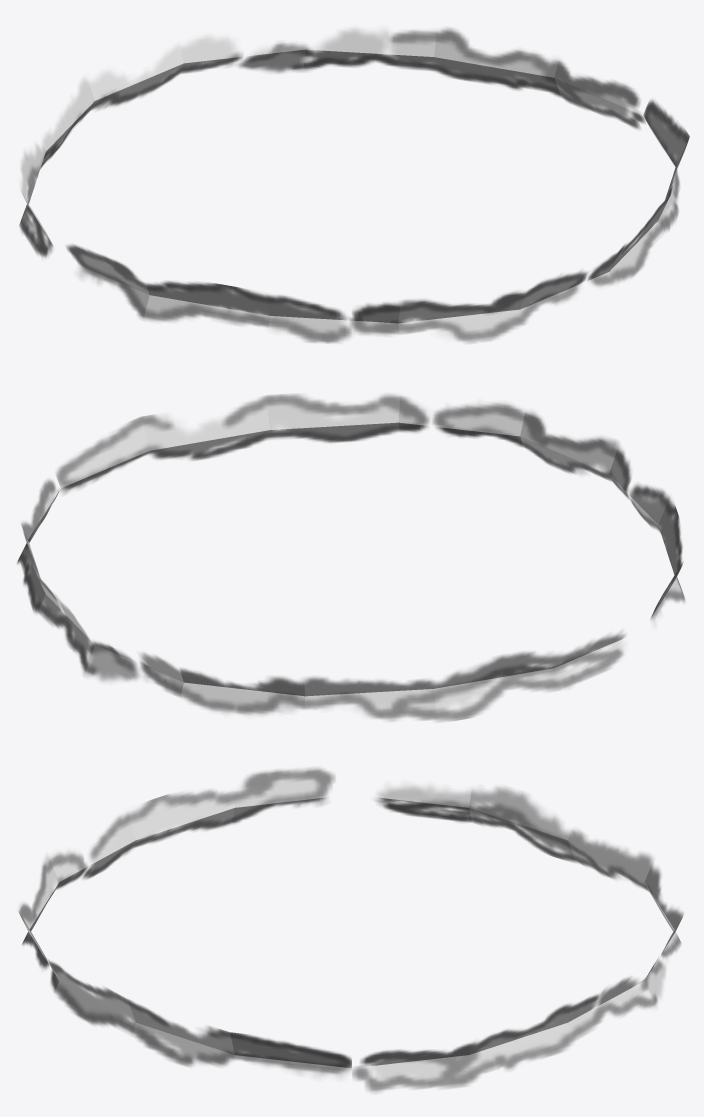
Rendered from whirl_ring_mesh.gltf.
The picture shows the model from 3 angles, top to bottom: view 1: azimuth 30°, elevation 25°; view 2: azimuth 150°, elevation 25°; view 3: azimuth 270°, elevation 25°; orthographic projection. The views are drawn at different scales.
Visible parts, largest first — view 1: tornado_ring; view 2: tornado_ring; view 3: tornado_ring.
Part boxes in pixels (x1,y1,x2,y2): tornado_ring: (19,27,689,343); tornado_ring: (17,393,685,721); tornado_ring: (18,767,683,1093).
Bounding box in the file's own units: 3.73 × 0.3456 × 3.73.
Materials: 1 (1 with a texture image).
